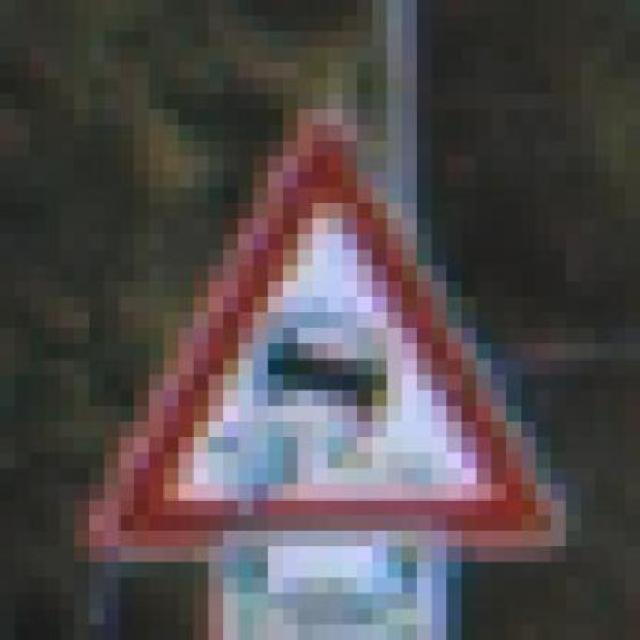Slippery Road Ahead: (59, 78, 596, 562)
